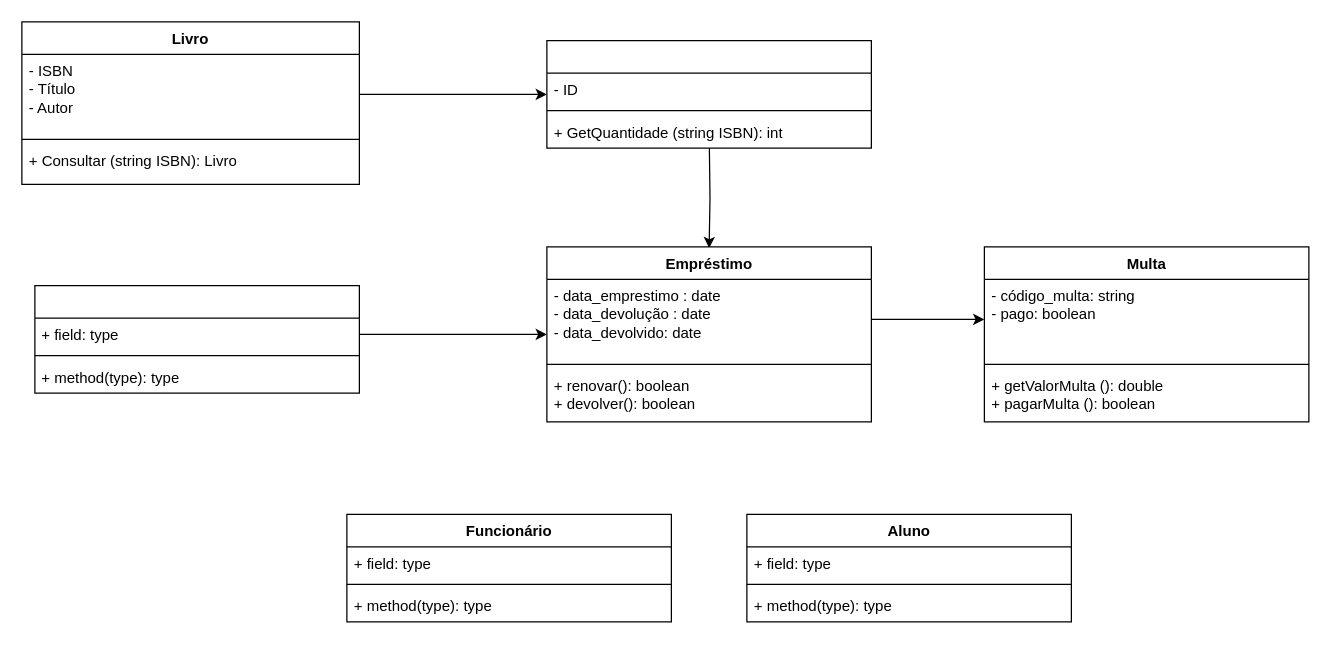
Some shapes in this 1331 by 648 pixel diagram are drawn without their labels. Each missing label, with the box of its shape:
Adquirente: (34, 284, 359, 393)
Cópia: (546, 39, 871, 148)
